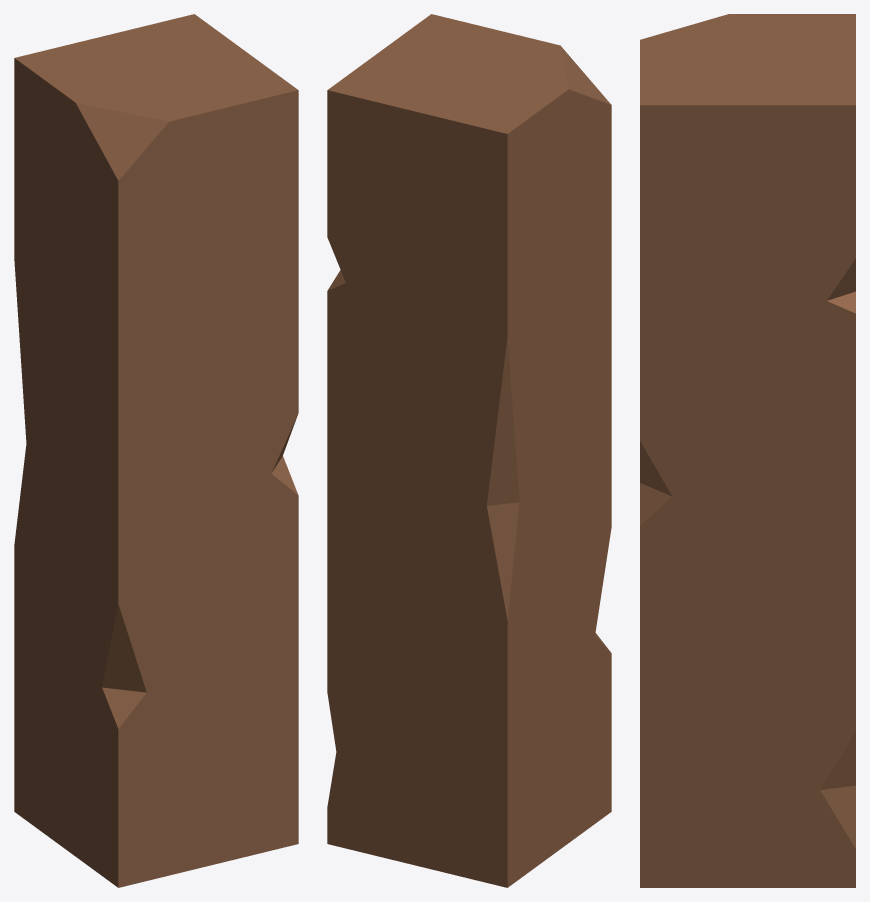
Rendered from Monument_003.FBX.
3 renders of one model, left to right at view 1: azimuth 30°, elevation 25°; view 2: azimuth 150°, elevation 25°; view 3: azimuth 270°, elevation 25°, orthographic. The views are drawn at different scales.
Parts seen in each view (by area): view 1: Monument_003; view 2: Monument_003; view 3: Monument_003.
Part boxes in pixels (<box>): Monument_003: <box>14,14,298,887</box>; Monument_003: <box>327,14,611,887</box>; Monument_003: <box>640,14,855,887</box>.
Bounding box in the file's own units: 19.69 × 78.74 × 19.69.
